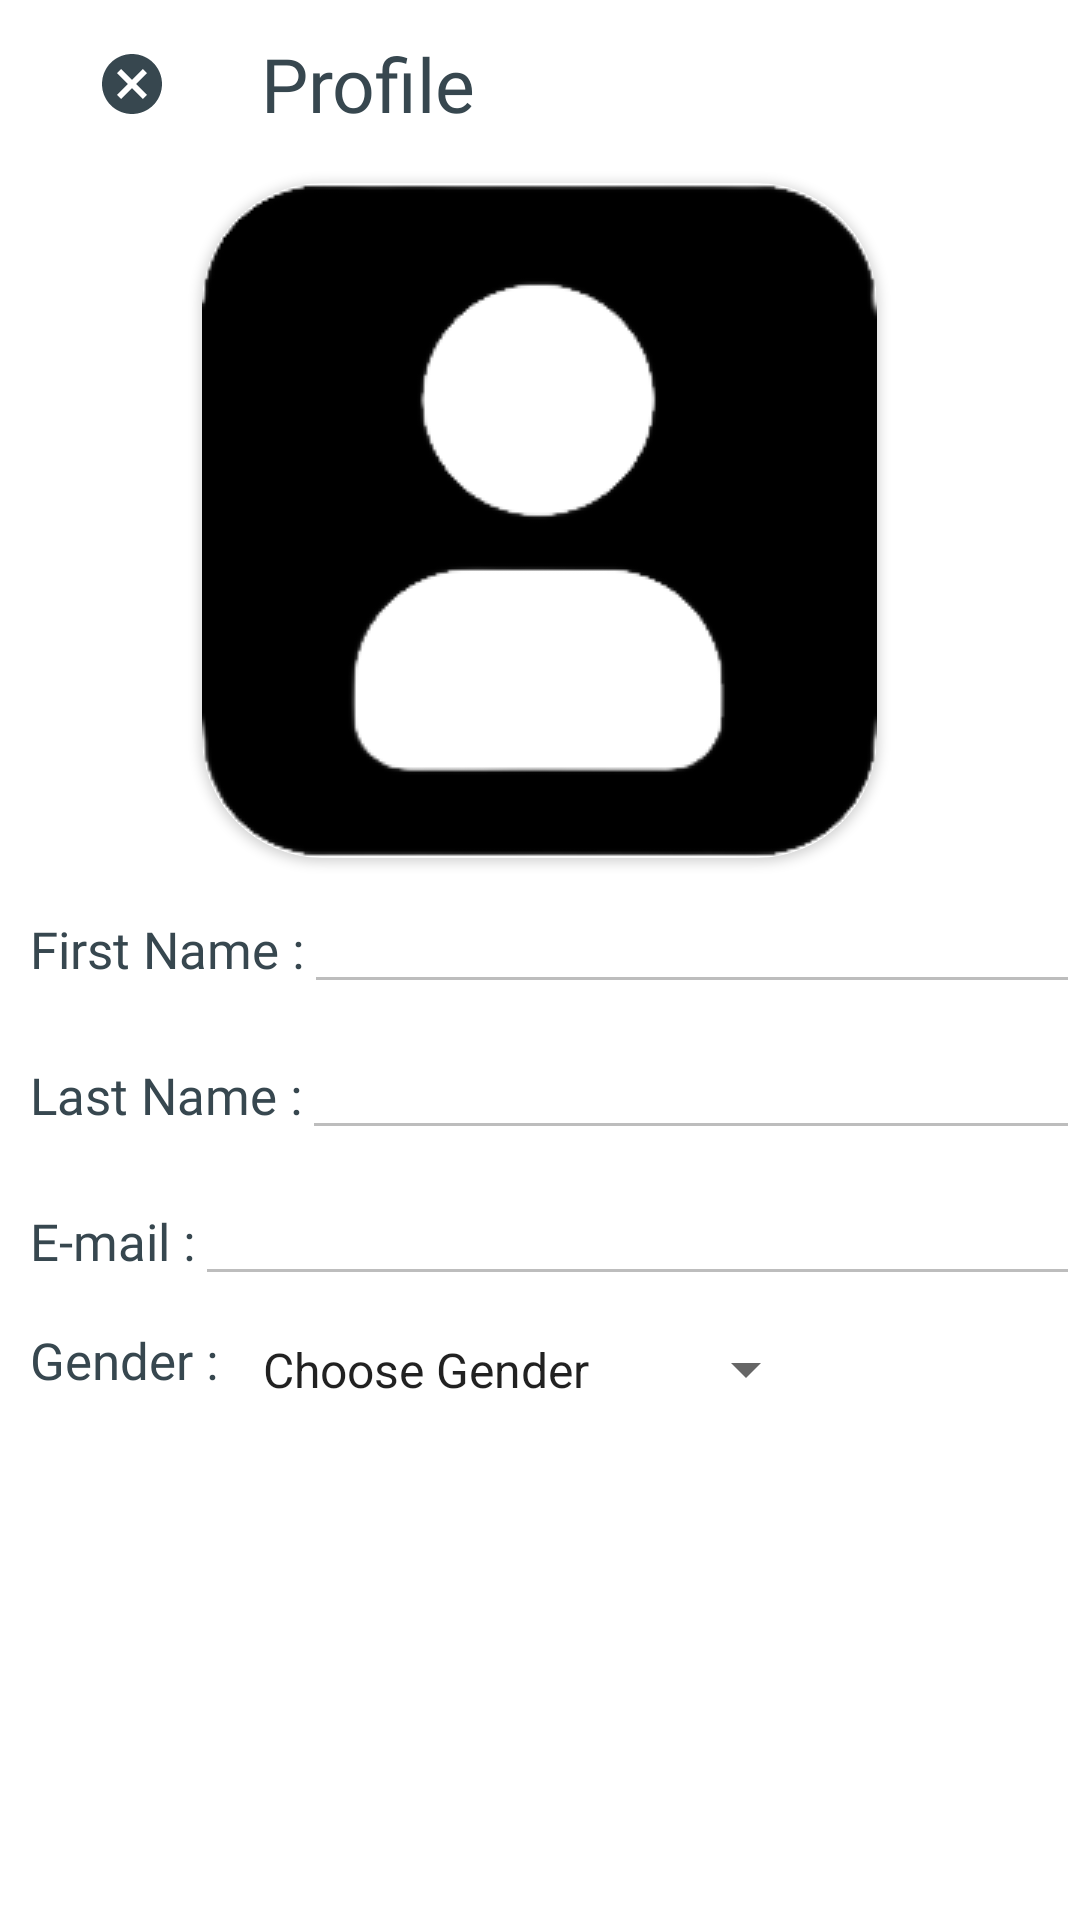

Where to tap for icons on this 1080x1920 app screen, as (x=x, y=y):
cancel: (x=132, y=84)
